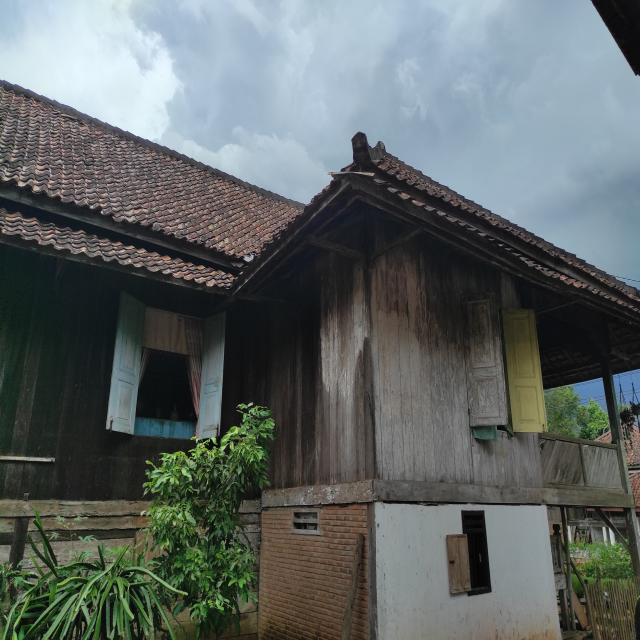jendela: (106, 289, 225, 440)
